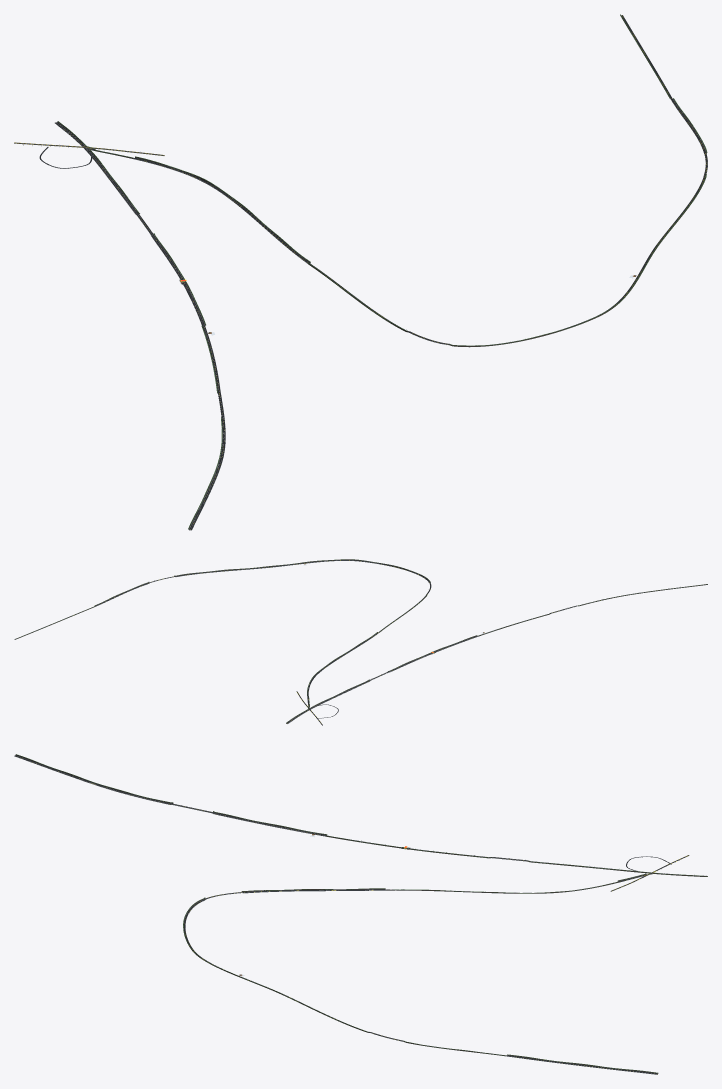
File: nut_giao_cau_vuot_va_cao_toc_lien_khuong_prenn.glb
3 views of the same model, one above another, from view 1: azimuth 30°, elevation 25°; view 2: azimuth 150°, elevation 25°; view 3: azimuth 270°, elevation 25° (orthographic). The views are drawn at different scales.
Visible parts, largest first — view 1: LienKhuong_Expressway_4Lane_Asphalt, LienKhuong_Pine_Forest_Verge_Benches, LienKhuong_South_Basalt_Cut_Slopes, LienKhuong_Split_Granite_Retaining_Taluy; view 2: LienKhuong_Expressway_4Lane_Asphalt, LienKhuong_South_Basalt_Cut_Slopes, LienKhuong_Split_Granite_Retaining_Taluy, LienKhuong_Pine_Forest_Verge_Benches; view 3: LienKhuong_South_Basalt_Cut_Slopes, LienKhuong_Expressway_4Lane_Asphalt, LienKhuong_Split_Granite_Retaining_Taluy, LienKhuong_Pine_Forest_Verge_Benches.
Boxes of the visible parts, box(x1,y1,x2,y2) form: LienKhuong_Expressway_4Lane_Asphalt: box(14, 15, 707, 530); LienKhuong_Pine_Forest_Verge_Benches: box(58, 14, 707, 528); LienKhuong_South_Basalt_Cut_Slopes: box(57, 15, 706, 529); LienKhuong_Split_Granite_Retaining_Taluy: box(55, 98, 707, 529); LienKhuong_Expressway_4Lane_Asphalt: box(14, 560, 706, 725); LienKhuong_South_Basalt_Cut_Slopes: box(15, 559, 707, 723); LienKhuong_Split_Granite_Retaining_Taluy: box(15, 560, 707, 723); LienKhuong_Pine_Forest_Verge_Benches: box(16, 559, 707, 722); LienKhuong_South_Basalt_Cut_Slopes: box(15, 754, 707, 1073); LienKhuong_Expressway_4Lane_Asphalt: box(14, 755, 707, 1074); LienKhuong_Split_Granite_Retaining_Taluy: box(14, 755, 702, 1074); LienKhuong_Pine_Forest_Verge_Benches: box(16, 754, 707, 1072).
Bounding box in the file's own units: 6048 × 49.38 × 5567.
